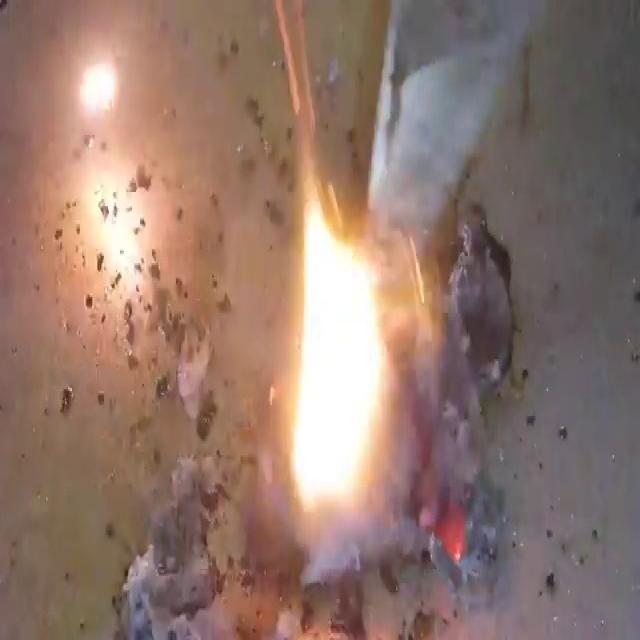Fire: (41, 4, 531, 636), (287, 195, 390, 518)
